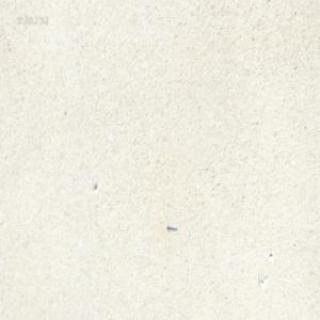Nailtrack_idkeyframe: (165, 223, 177, 232)
